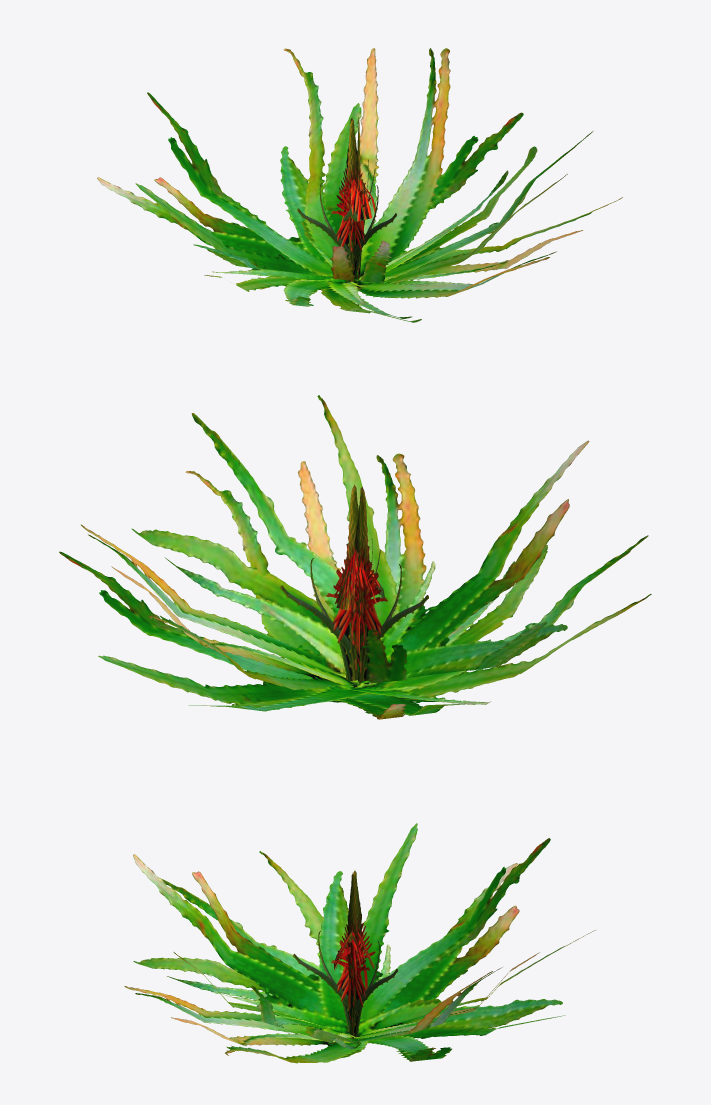
File: Model_Plant_01.fbx
3 views of the same model, one above another, from view 1: azimuth 30°, elevation 25°; view 2: azimuth 150°, elevation 25°; view 3: azimuth 270°, elevation 25° (orthographic). The views are drawn at different scales.
Parts seen in each view (by area): view 1: Aloe_vera, Aloe_vera_flower; view 2: Aloe_vera, Aloe_vera_flower; view 3: Aloe_vera, Aloe_vera_flower.
Part boxes in pixels (left/top/right/bottom): Aloe_vera: left=97, top=48, right=622, bottom=322; Aloe_vera_flower: left=297, top=117, right=396, bottom=282; Aloe_vera: left=59, top=395, right=651, bottom=719; Aloe_vera_flower: left=280, top=484, right=428, bottom=685; Aloe_vera: left=124, top=823, right=595, bottom=1063; Aloe_vera_flower: left=293, top=870, right=397, bottom=1036.
Bounding box in the file's own units: 137 × 36.85 × 137.
